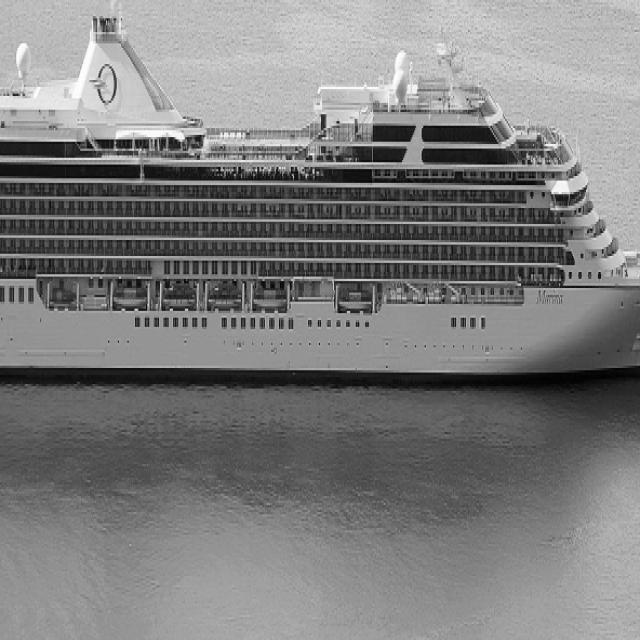cruises: (1, 1, 640, 412)
